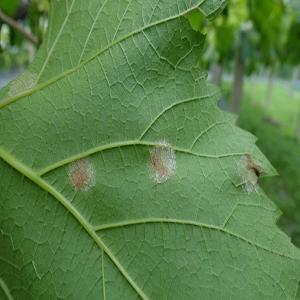Folha: (1, 0, 299, 299)
Fungo: (146, 137, 176, 184), (67, 155, 95, 193), (237, 153, 261, 195)
